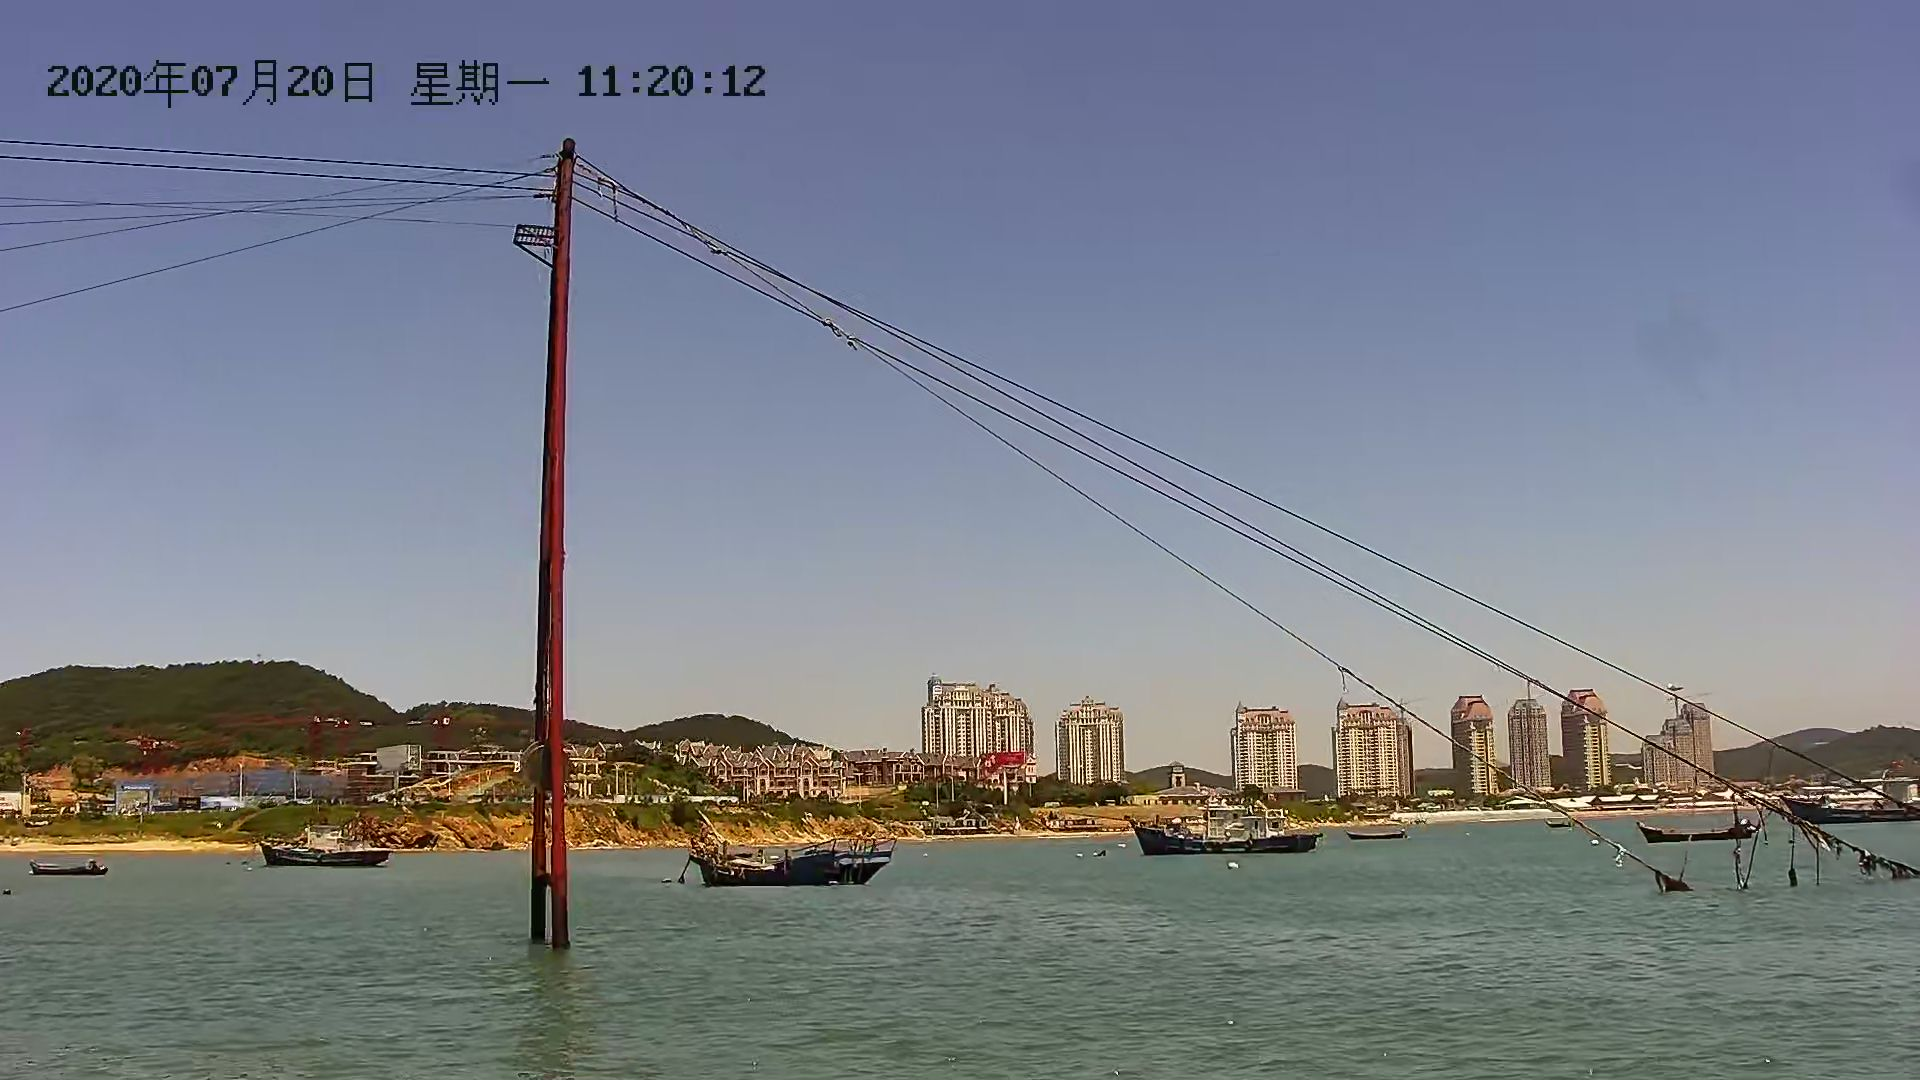boat: (686, 822, 887, 884), (1117, 815, 1325, 853), (1780, 773, 1920, 827), (252, 836, 404, 876), (1636, 816, 1759, 849), (28, 860, 105, 881)
mast: (510, 137, 585, 947)
